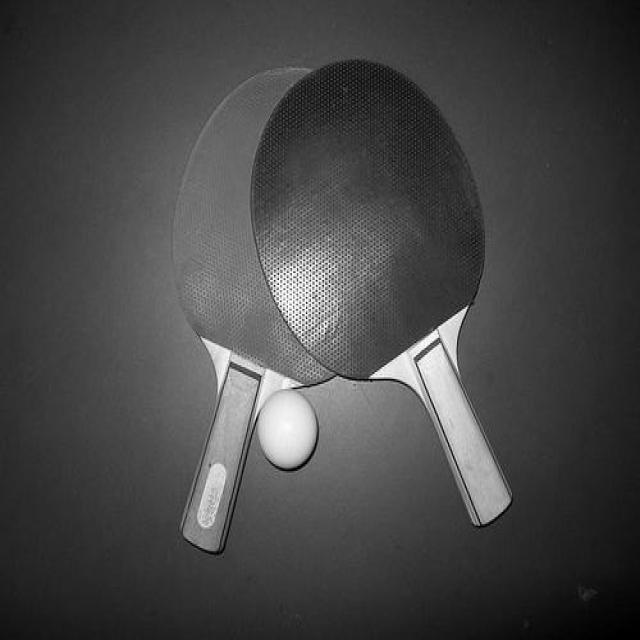ping-pong-ball: (257, 388, 320, 471)
